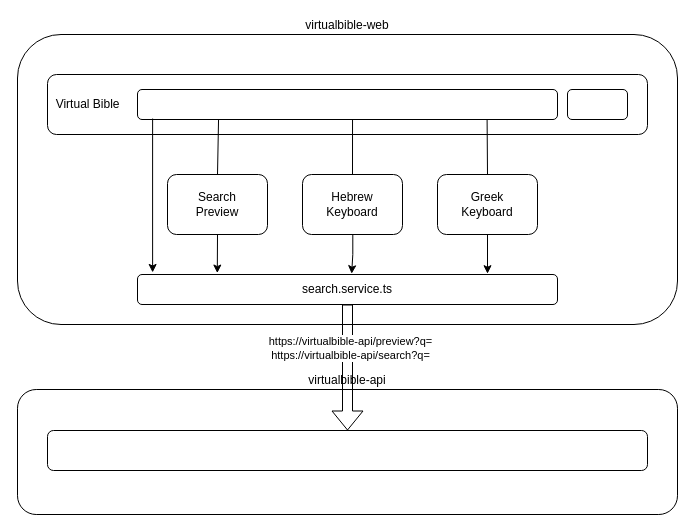
Image size: 695x532. Some labels were removed from this diagram. Here are the shapes that lost their labels. From the top down, the centre of each, then its label:
the point at 347,104: search
the point at 597,104: login
the point at 347,450: API
